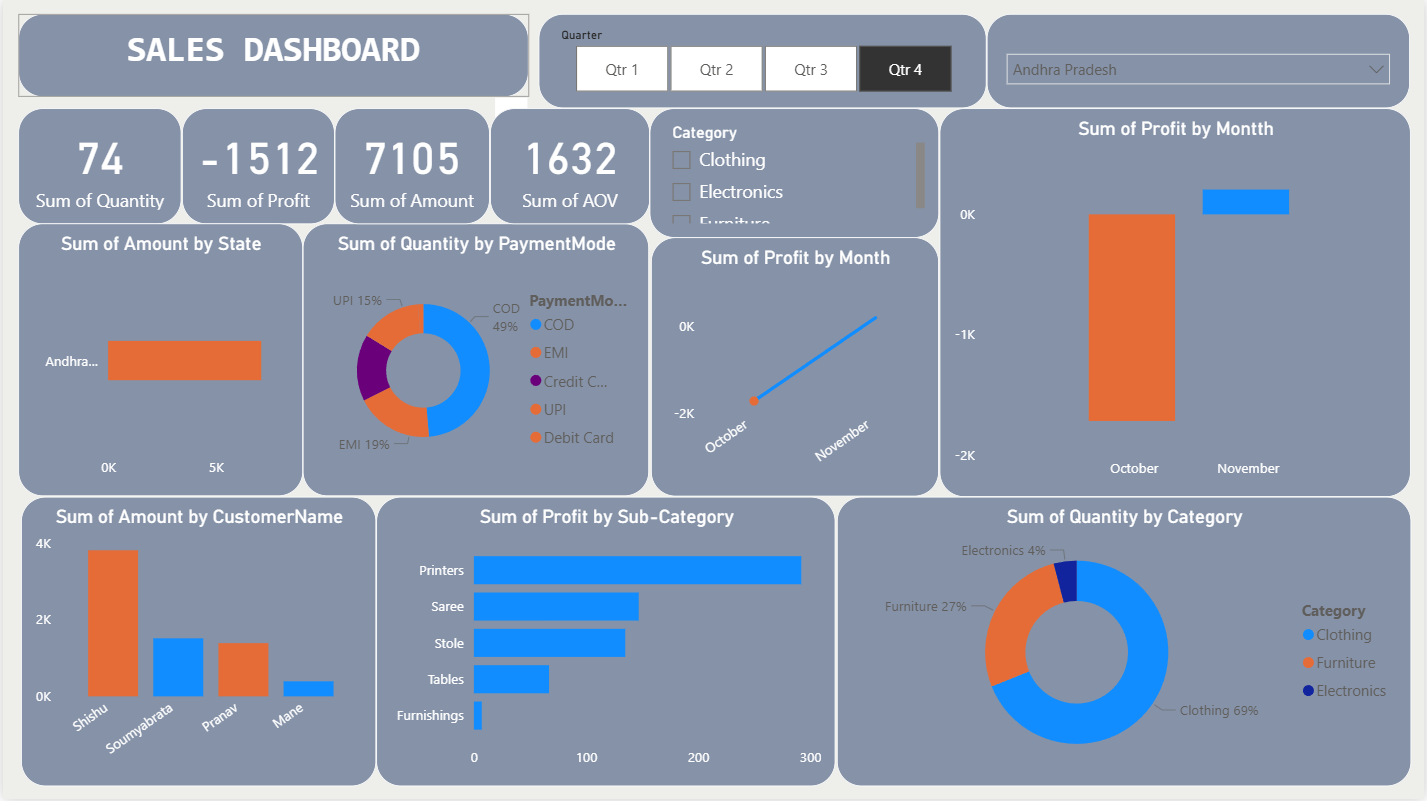

What the dashboard file says about the page in this screenshot:
{"tool":"powerbi","page":{"name":"Page 1","canvas":[1280,720],"ordinal":0},"visuals":[{"type":"textbox","box":[13.8,12.5,460,75],"z":0},{"type":"columnChart","title":"Sum of Profit by Montth","fields":{"Y":["Sum(Details.Profit)"],"Category":["Orders.Order Date.Variation.Date Hierarchy.Month"]},"box":[843.2,97.1,424.6,350.3],"z":1000},{"type":"barChart","fields":{"Category":["Details.Sub-Category"],"Y":["Sum(Details.Profit)"]},"box":[336.7,447.4,414,260.9],"z":2000},{"type":"donutChart","fields":{"Y":["Sum(Details.Quantity)"],"Category":["Details.Category"]},"box":[750.7,447.4,517.2,260.9],"z":3000},{"type":"donutChart","fields":{"Y":["Sum(Details.Quantity)"],"Category":["Details.PaymentMode"]},"box":[270,201.7,312.4,245.7],"z":4000},{"type":"card","fields":{"Values":["Sum(Details.Quantity)"]},"box":[13.6,97.1,147.1,104.6],"z":5000},{"type":"card","fields":{"Values":["Sum(Details.Amount)"]},"box":[298.8,97.1,139.5,104.6],"z":6000},{"type":"card","fields":{"Values":["Sum(Details.Profit)"]},"box":[160.8,97.1,138,104.6],"z":7000},{"type":"card","fields":{"Values":["Sum(Details.AOV)"]},"box":[438.3,97.1,144.1,104.6],"z":8000},{"type":"barChart","fields":{"Category":["Orders.State"],"Y":["Sum(Details.Amount)"]},"box":[13.6,201.7,256.3,245.7],"z":9000},{"type":"columnChart","fields":{"Category":["Orders.CustomerName"],"Y":["Sum(Details.Amount)"]},"box":[16.7,447.4,320,260.9],"z":10000},{"type":"slicer","fields":{"Values":["Orders.Order Date.Variation.Date Hierarchy.Quarter"]},"box":[482.5,12.5,403.8,85],"z":11000},{"type":"slicer","fields":{"Values":["Orders.State"]},"box":[886.2,12.5,381.2,85],"z":12000},{"type":"slicer","fields":{"Values":["Elements.Category"]},"box":[582.4,97.1,260.9,116.8],"z":13000},{"type":"lineChart","fields":{"Category":["Directives.Order Date.Variation.Date Hierarchy.Month"],"Y":["Sum(Elements.Profit)"]},"box":[583.9,213.8,259.3,233.6],"z":14000}]}

Visuals, with their boxes in screenshot pixels (x1, y1, x2, y2), scaled from the page's 1280x720 canvas onto the 1427x801 screenshot:
textbox: [15, 14, 528, 97]
"Sum of Profit by Montth" columnChart: [940, 108, 1413, 498]
barChart - Details.Sub-Category x Sum(Details.Profit): [375, 498, 837, 788]
donutChart - Sum(Details.Quantity) x Details.Category: [837, 498, 1414, 788]
donutChart - Sum(Details.Quantity) x Details.PaymentMode: [301, 224, 649, 498]
card - Sum(Details.Quantity): [15, 108, 179, 224]
card - Sum(Details.Amount): [333, 108, 489, 224]
card - Sum(Details.Profit): [179, 108, 333, 224]
card - Sum(Details.AOV): [489, 108, 649, 224]
barChart - Orders.State x Sum(Details.Amount): [15, 224, 301, 498]
columnChart - Orders.CustomerName x Sum(Details.Amount): [19, 498, 375, 788]
slicer - Orders.Order Date.Variation.Date Hierarchy.Quarter: [538, 14, 988, 108]
slicer - Orders.State: [988, 14, 1413, 108]
slicer - Elements.Category: [649, 108, 940, 238]
lineChart - Directives.Order Date.Variation.Date Hierarchy.Month x Sum(Elements.Profit): [651, 238, 940, 498]
